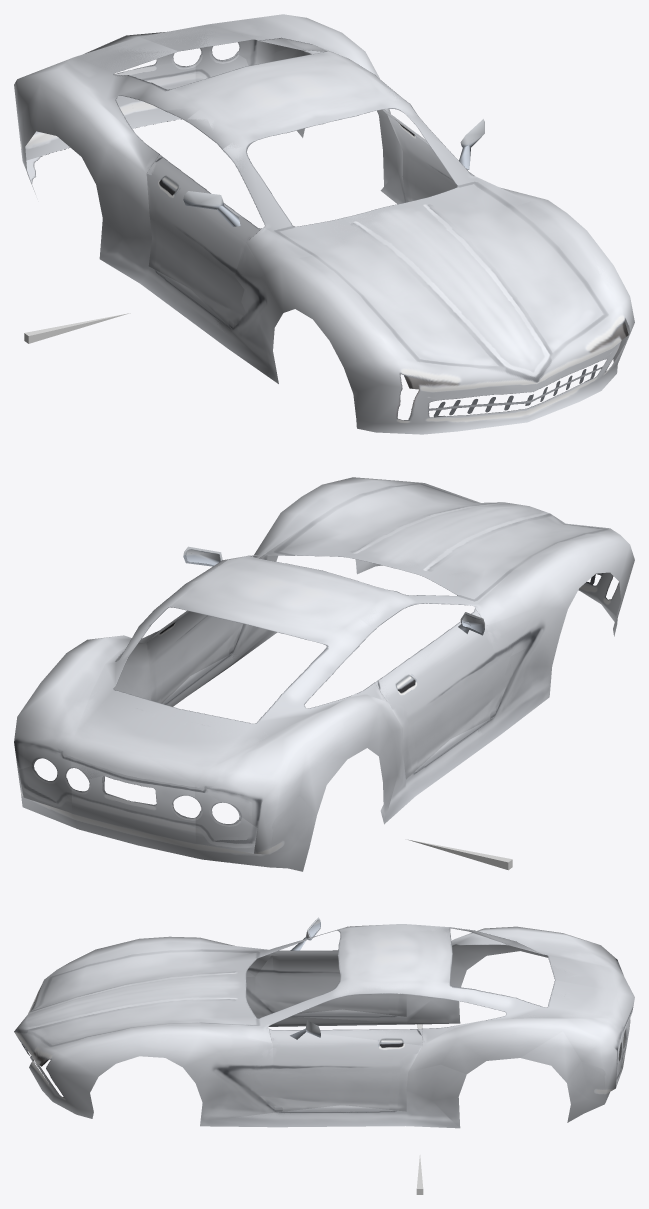
The model's file is Mako.FBX.
3 renders of one model, top to bottom at view 1: azimuth 30°, elevation 25°; view 2: azimuth 150°, elevation 25°; view 3: azimuth 270°, elevation 25°, orthographic. The views are drawn at different scales.
Visible parts, largest first — view 1: Mako2BodyWindowed, Mako3BodyDoorCut, Mako1BodyLores, DoorR, MirrorR, EnterR; view 2: Mako2BodyWindowed, Mako3BodyDoorCut, Mako1BodyLores, DoorR, EnterR, MirrorL; view 3: Mako2BodyWindowed, Mako1BodyLores, Mako3BodyDoorCut, DoorL, DoorR.
Part boxes in pixels (x1,y1,x2,y2): Mako2BodyWindowed: [14, 14, 634, 421]; Mako3BodyDoorCut: [19, 24, 634, 434]; Mako1BodyLores: [19, 24, 629, 425]; DoorR: [146, 154, 261, 329]; MirrorR: [183, 191, 240, 226]; EnterR: [24, 313, 130, 343]; Mako2BodyWindowed: [14, 477, 620, 871]; Mako3BodyDoorCut: [19, 485, 634, 867]; Mako1BodyLores: [32, 477, 625, 857]; DoorR: [375, 608, 510, 779]; EnterR: [407, 839, 512, 870]; MirrorL: [183, 546, 222, 566]; Mako2BodyWindowed: [14, 924, 634, 1127]; Mako1BodyLores: [26, 924, 634, 1128]; Mako3BodyDoorCut: [14, 926, 630, 1127]; DoorL: [255, 1029, 421, 1112]; DoorR: [255, 955, 405, 1016].
Size of what is drawn, in the model's own units: 322 by 131 by 473.
